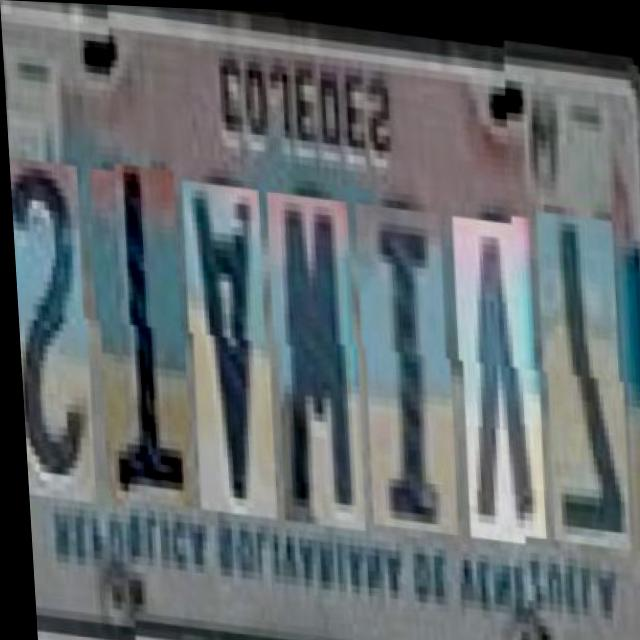7: (531, 204, 627, 540)
a: (178, 174, 274, 511)
i: (352, 193, 454, 523)
s: (7, 149, 93, 493)
t: (85, 158, 190, 503)
v: (447, 202, 543, 531)
w: (263, 182, 362, 520)
